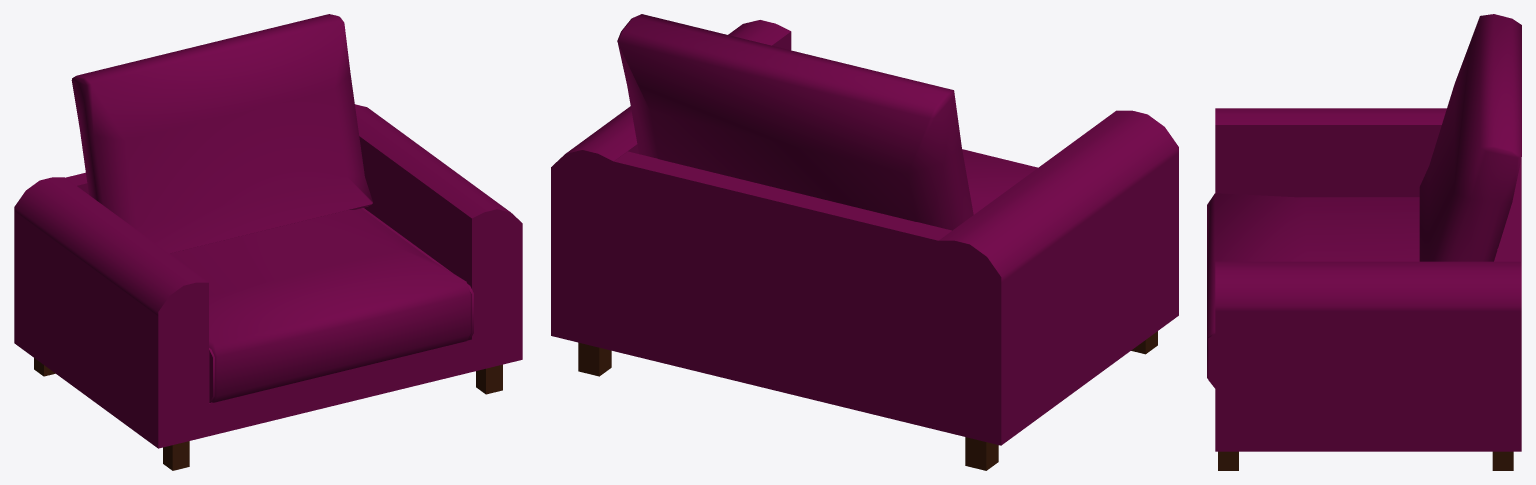
Rendered from Chair_2.glb.
3 renders of one model, left to right at view 1: azimuth 30°, elevation 25°; view 2: azimuth 150°, elevation 25°; view 3: azimuth 270°, elevation 25°, orthographic. The views are drawn at different scales.
Parts seen in each view (by area): view 1: chair; view 2: chair; view 3: chair.
Boxes of the visible parts, box(x1,y1,x2,y2) form: chair: box(14, 14, 522, 470); chair: box(551, 14, 1178, 470); chair: box(1207, 14, 1521, 470).
Bounding box in the file's own units: 11.7 × 8.85 × 8.22.
1 material, 1 textured.
